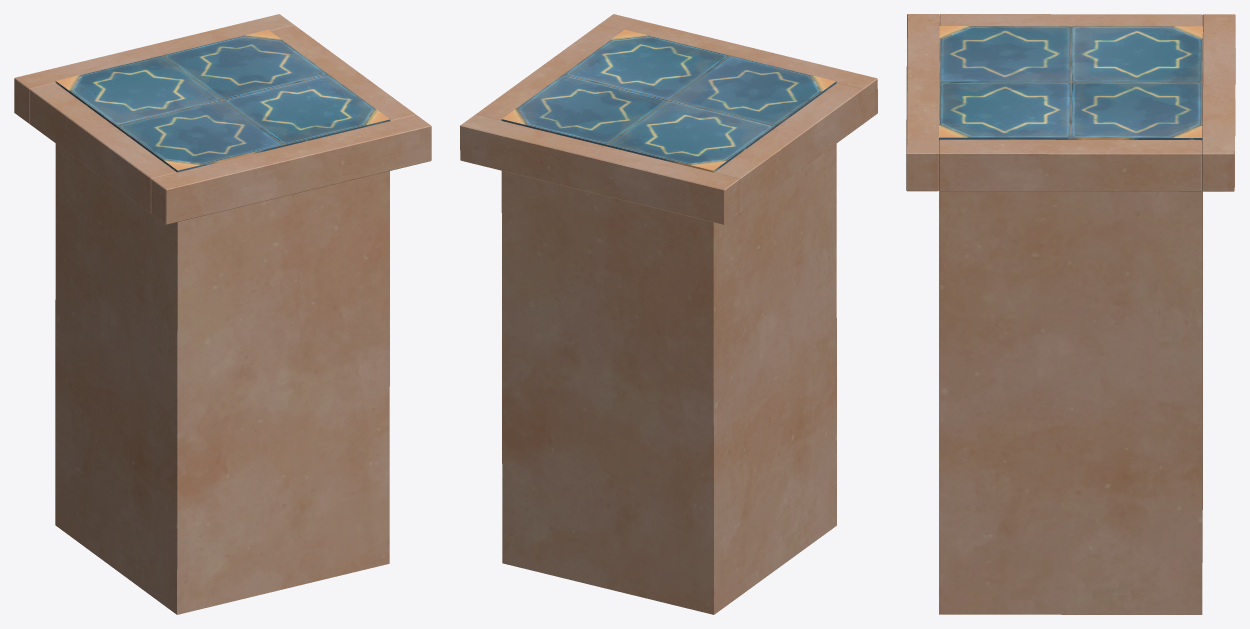
The picture shows the model from 3 angles, left to right: view 1: azimuth 30°, elevation 25°; view 2: azimuth 150°, elevation 25°; view 3: azimuth 270°, elevation 25°; orthographic projection. The views are drawn at different scales.
Visible parts, largest first — view 1: SM_BB_T4_Foundation_Med_01_LOD0; view 2: SM_BB_T4_Foundation_Med_01_LOD0; view 3: SM_BB_T4_Foundation_Med_01_LOD0.
Boxes of the visible parts, left/top/right/bottom form: SM_BB_T4_Foundation_Med_01_LOD0: left=14, top=14, right=431, bottom=614; SM_BB_T4_Foundation_Med_01_LOD0: left=460, top=14, right=877, bottom=614; SM_BB_T4_Foundation_Med_01_LOD0: left=906, top=14, right=1235, bottom=614.
Size of the model in its own units: 1.88 by 3 by 1.88.
2 materials, 2 textured.
